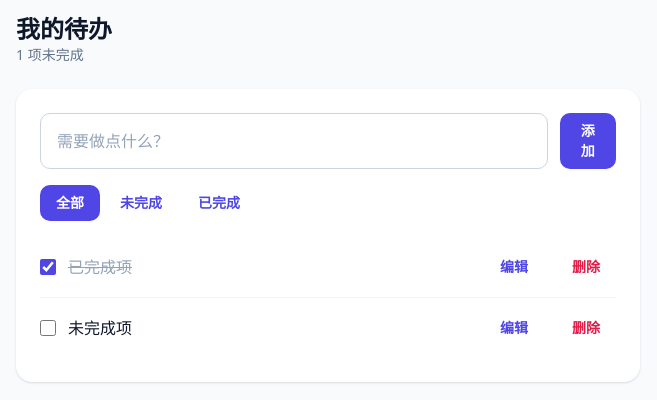
Scenario: 完成状态与筛选交互 (todo-completion, 第 8 组) › filters by 未完成 / 已完成 / 全部 (8.3)
Expected: the text "未完成项" is shown, [68, 317, 132, 339]
Click the button "未完成": (141, 203) [104, 185, 178, 221]
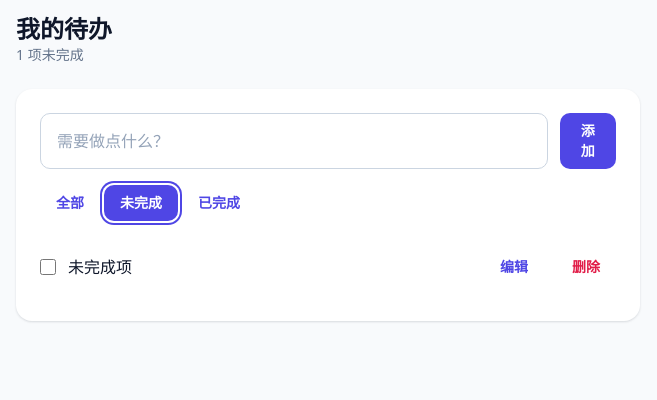
Expected: the text "未完成项" is shown, [68, 256, 132, 278]
Expected: the text "已完成项" is gone
Click the button "已完成": (219, 203) [182, 185, 256, 221]
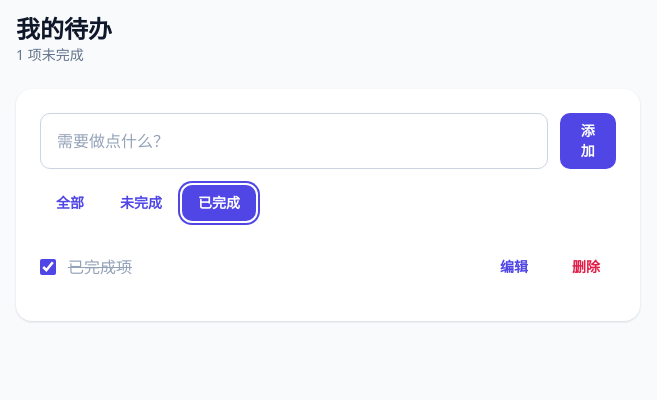
Expected: the text "未完成项" is gone
Expected: the text "已完成项" is shown, [68, 256, 132, 278]
Click the button "全部": (70, 203) [40, 185, 100, 221]
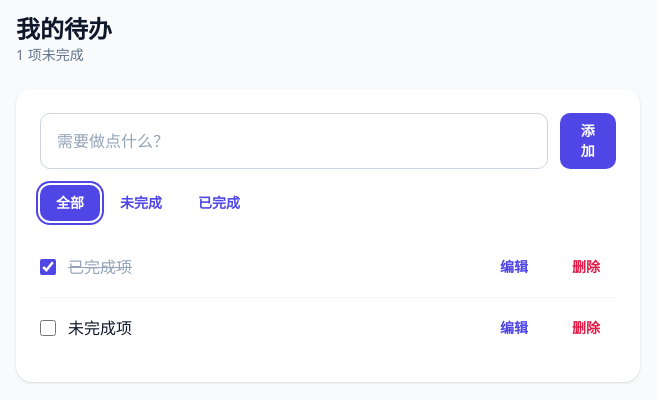
Expected: the text "已完成项" is shown, [68, 256, 132, 278]
Expected: the text "未完成项" is shown, [68, 317, 132, 339]
